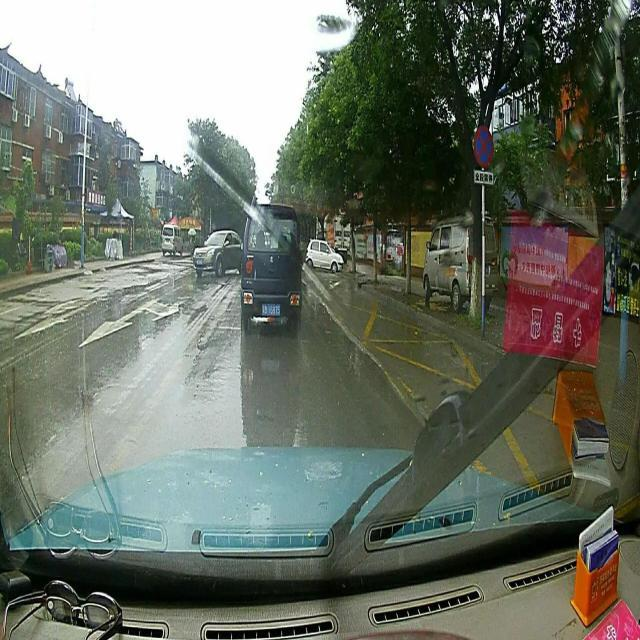car: (240, 198, 302, 332), (423, 217, 498, 311), (194, 228, 242, 276), (305, 240, 344, 273), (160, 224, 183, 256)
